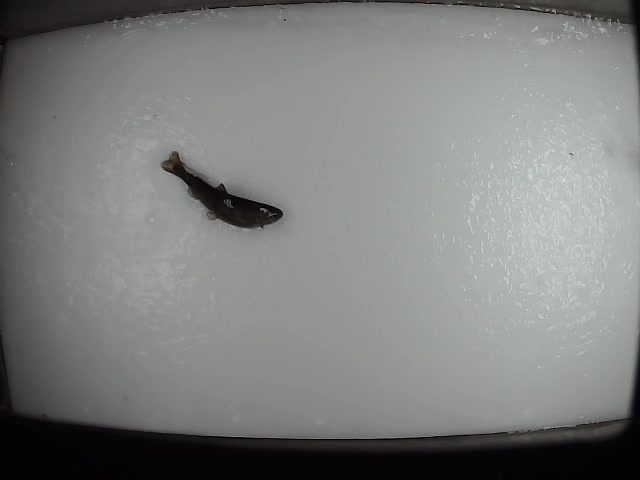Fish: (160, 152, 283, 229)
